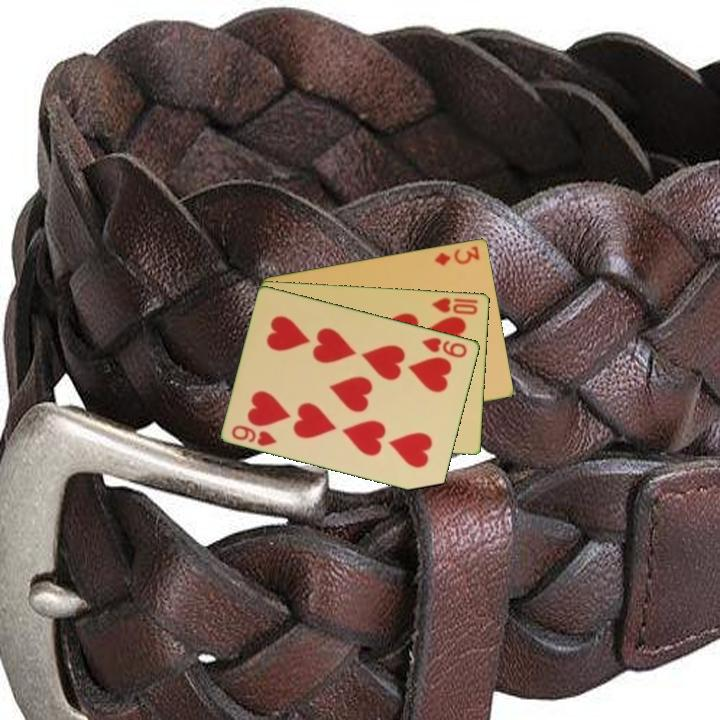10h: (429, 294, 481, 317)
3d: (431, 242, 483, 268)
9h: (228, 421, 280, 449), (419, 334, 470, 360)
